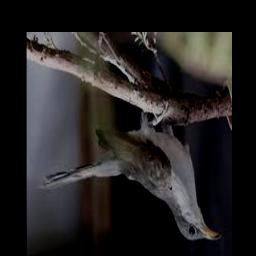Cuckoo: (38, 102, 221, 241)
